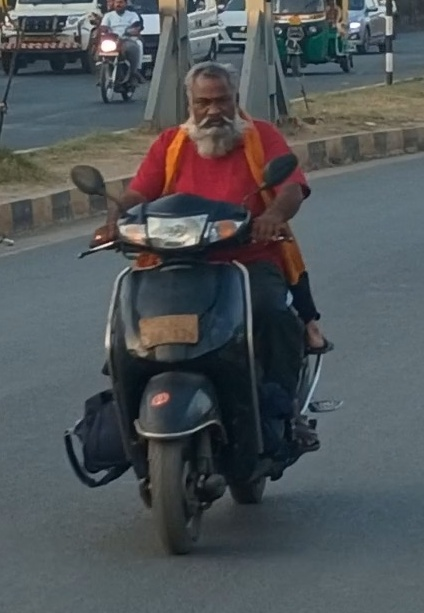BikeWithRider: (70, 59, 348, 546), (91, 0, 152, 106)
NoHelmet: (182, 59, 244, 161)
